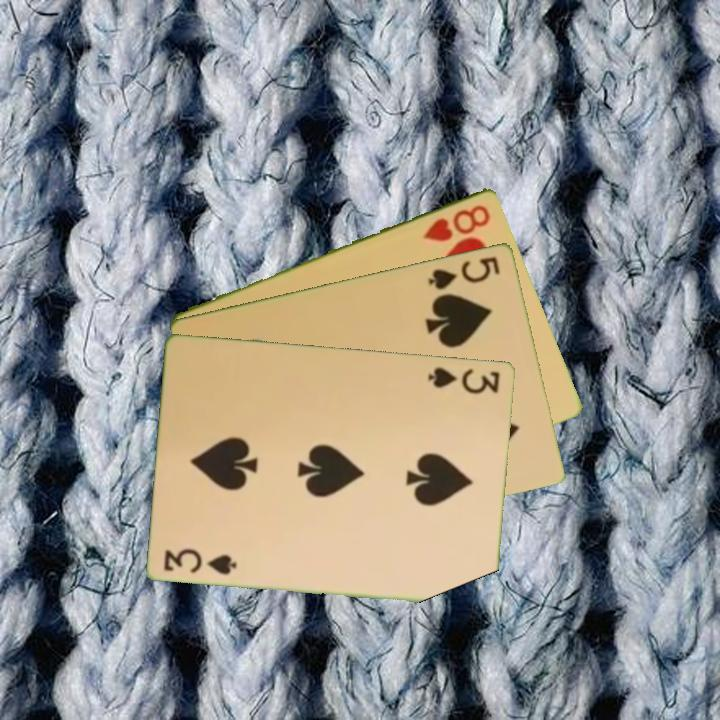3s: (424, 363, 503, 397), (160, 544, 240, 577)
5s: (425, 252, 503, 292)
8h: (420, 200, 494, 244)
